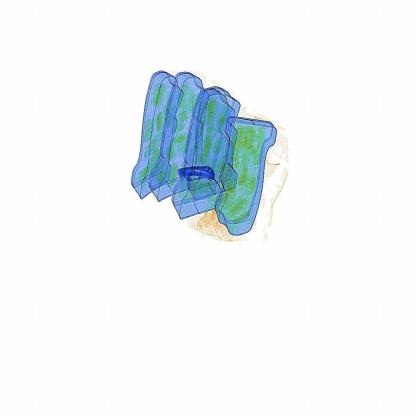knife: (173, 153, 224, 188)
